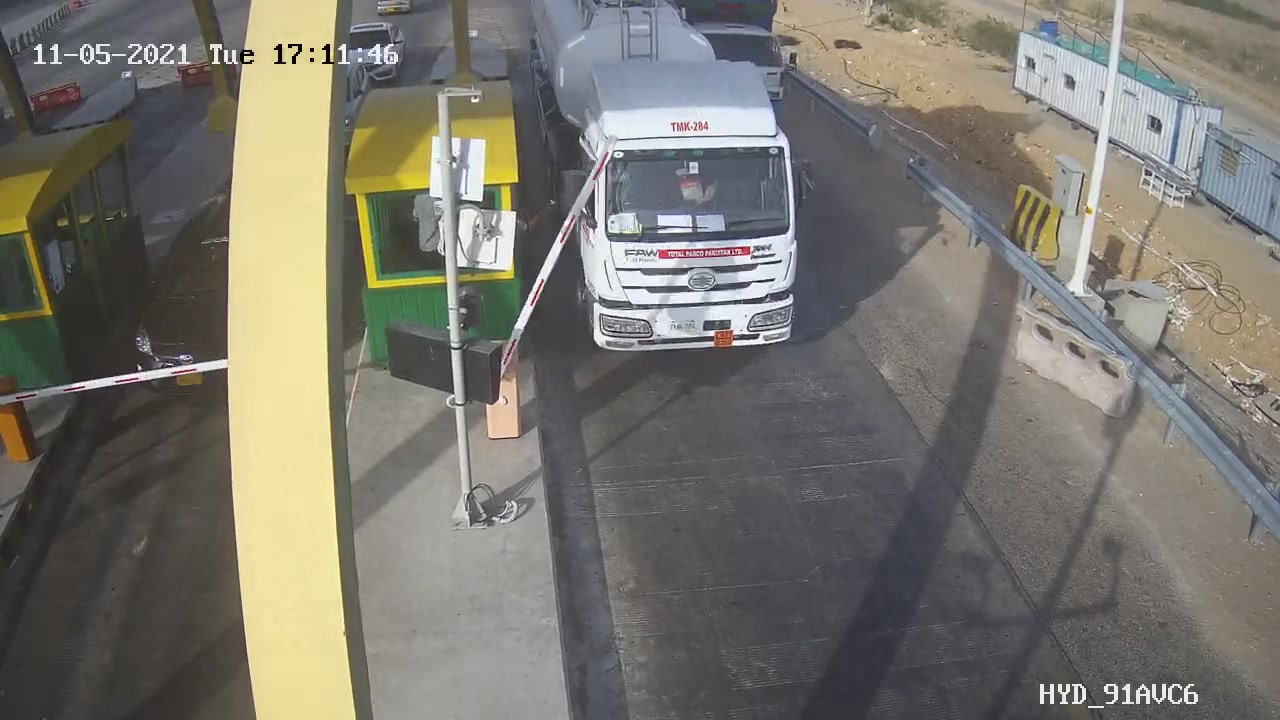F6: (511, 1, 838, 378)
